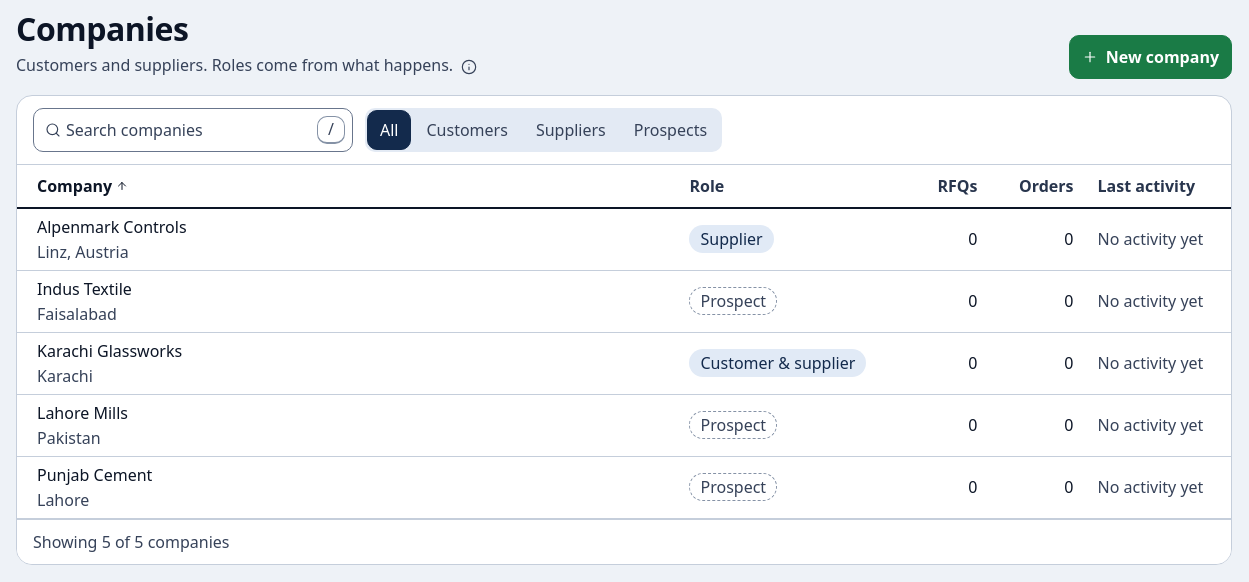
it: companies list › finds a company by a contact name or a phone number written either way, and says which contact
Expected: the link "Karachi Glassworks" is shown, 37,340 -> 182,362
Type "naveed" into the field named "Search companies or contacts" at (193,130), box 33,108 -> 353,152
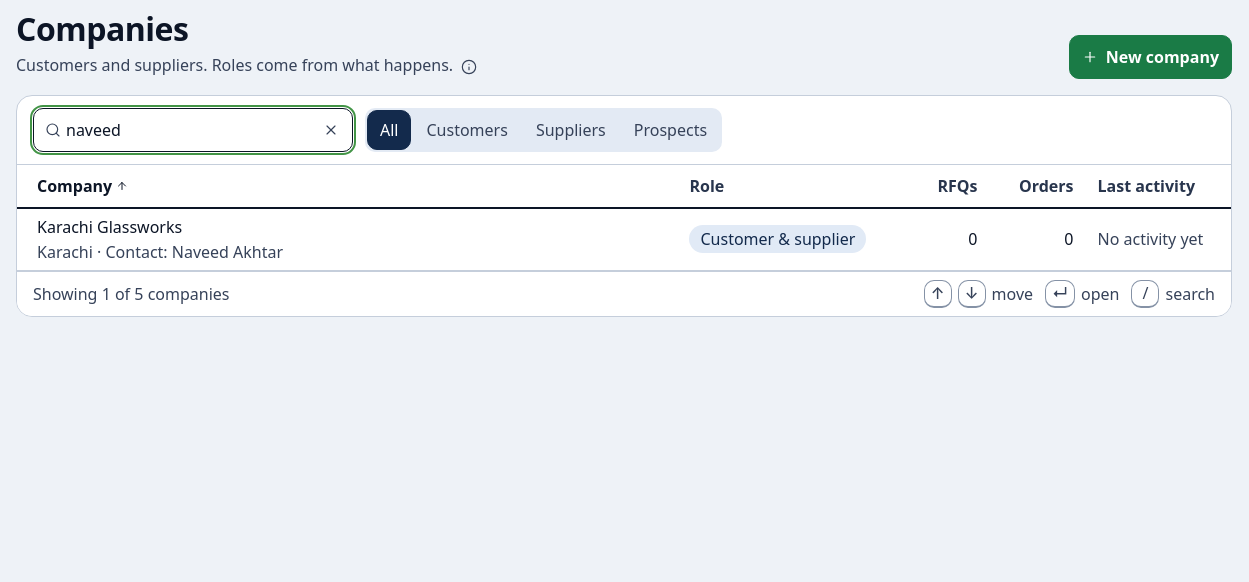
Now the row "Karachi Glassworks" shows "Contact: Naveed Akhtar", box 37,241 -> 283,263
Now the link "Alpenmark Controls" is gone
Replace the text in the field named "Search companies or contacts" with "0301 5550142" at (193,130), box 33,108 -> 353,152
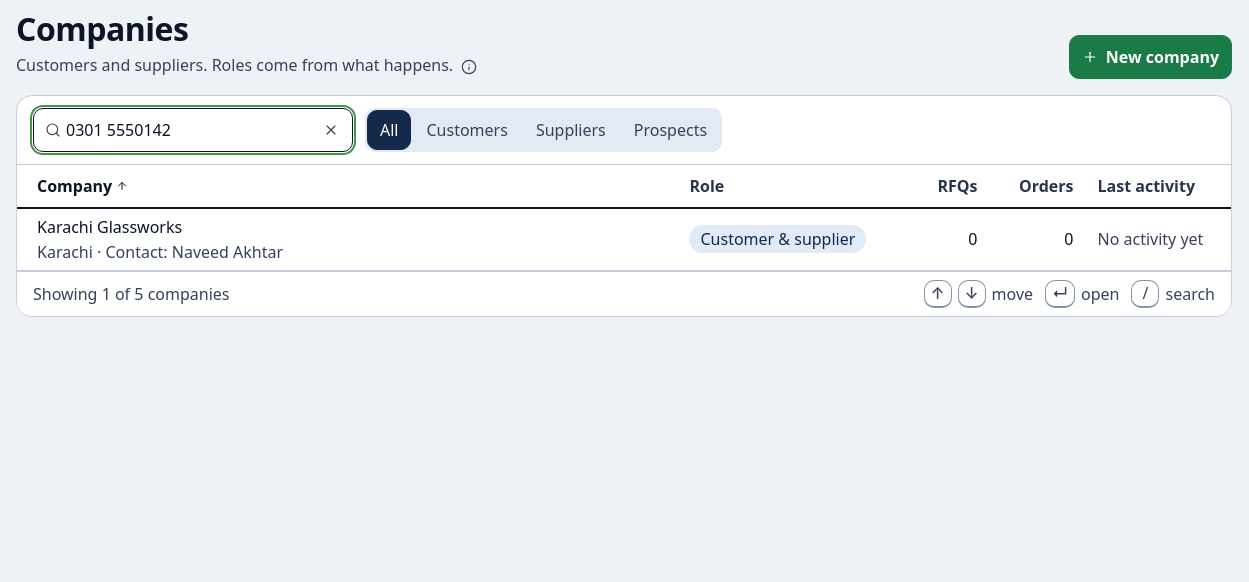
Expected: the link "Karachi Glassworks" is shown, 37,216 -> 182,238
Replace the text in the field named "Search companies or contacts" with "0399 1234567" at (193,130), box 33,108 -> 353,152
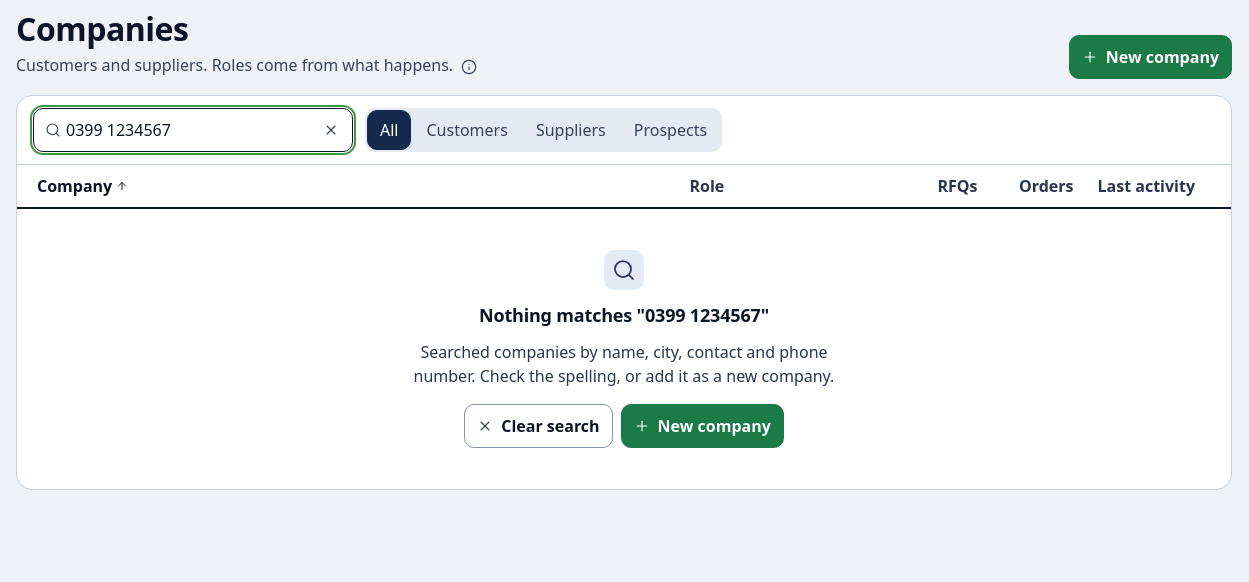
Now the text "Nothing matches \"0399 1234567\"" is shown, box 479,302 -> 769,328
